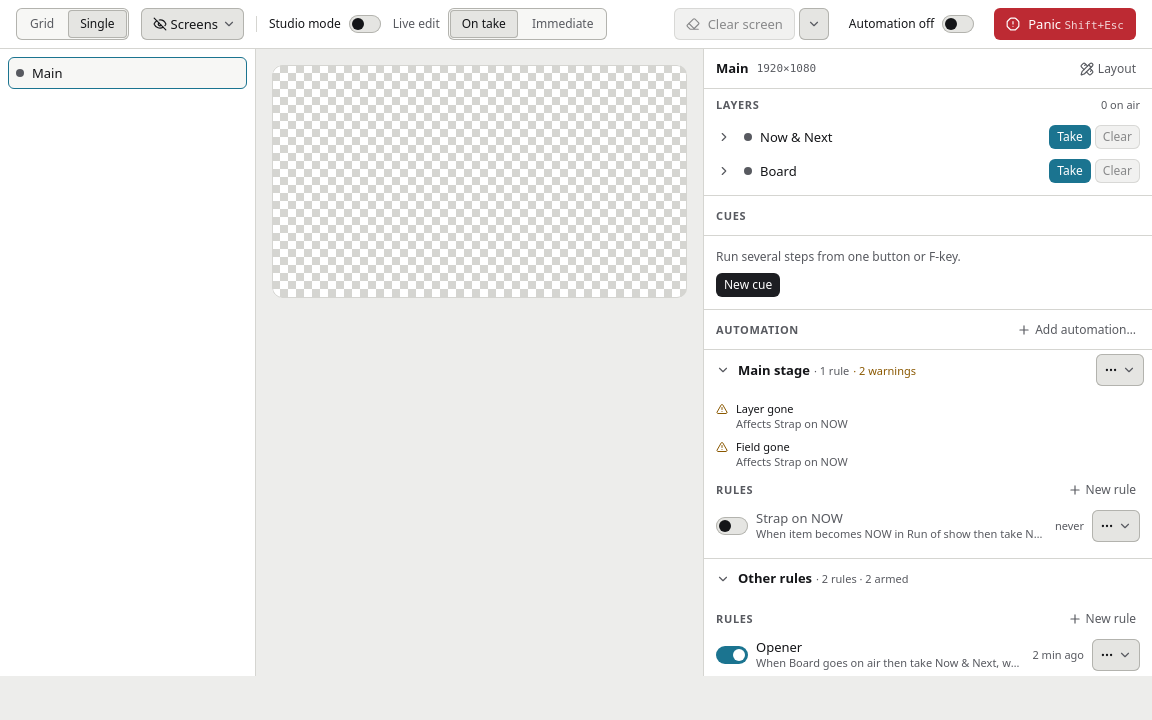
Test: linear editor › Edit saves the same flow (ids kept); the server's refusal shows inline and the editor stays
Check: the button "Main stage · 1 rule · 2 warnings" is shown, box [712,354,1092,386]
Click the button named "Actions for Opener" at (1116, 655), box [1092,639,1140,671]
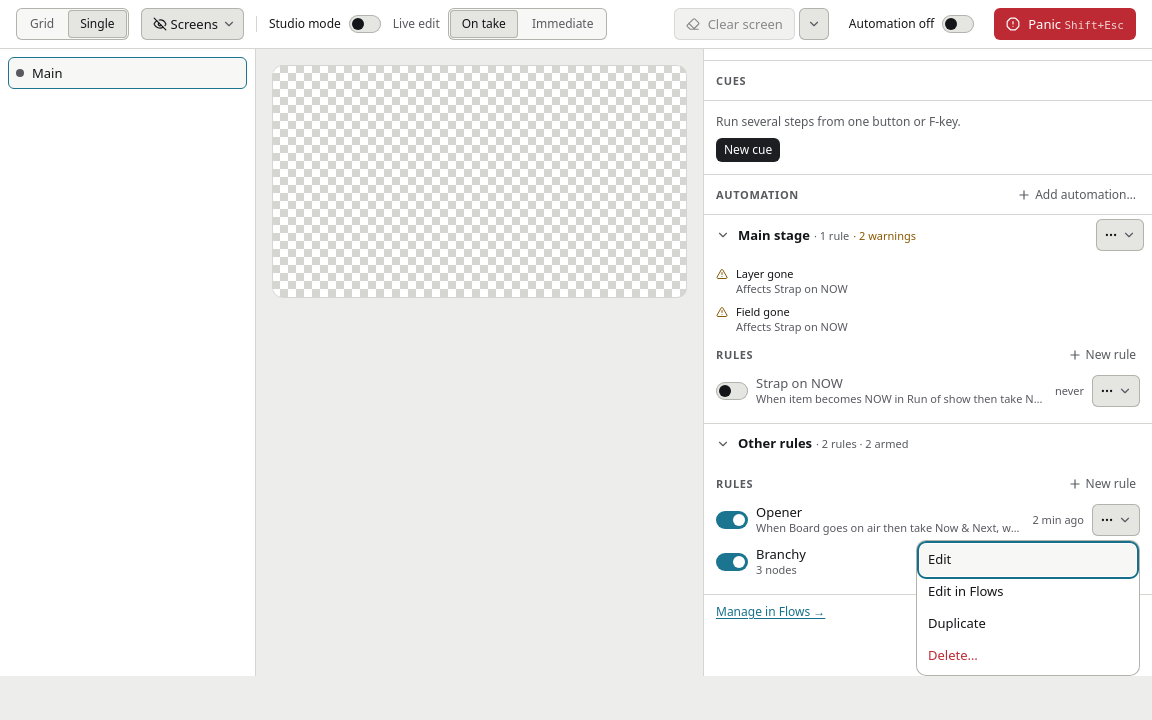
Click the menu item "Edit" at (1028, 560), box [920,544,1136,576]
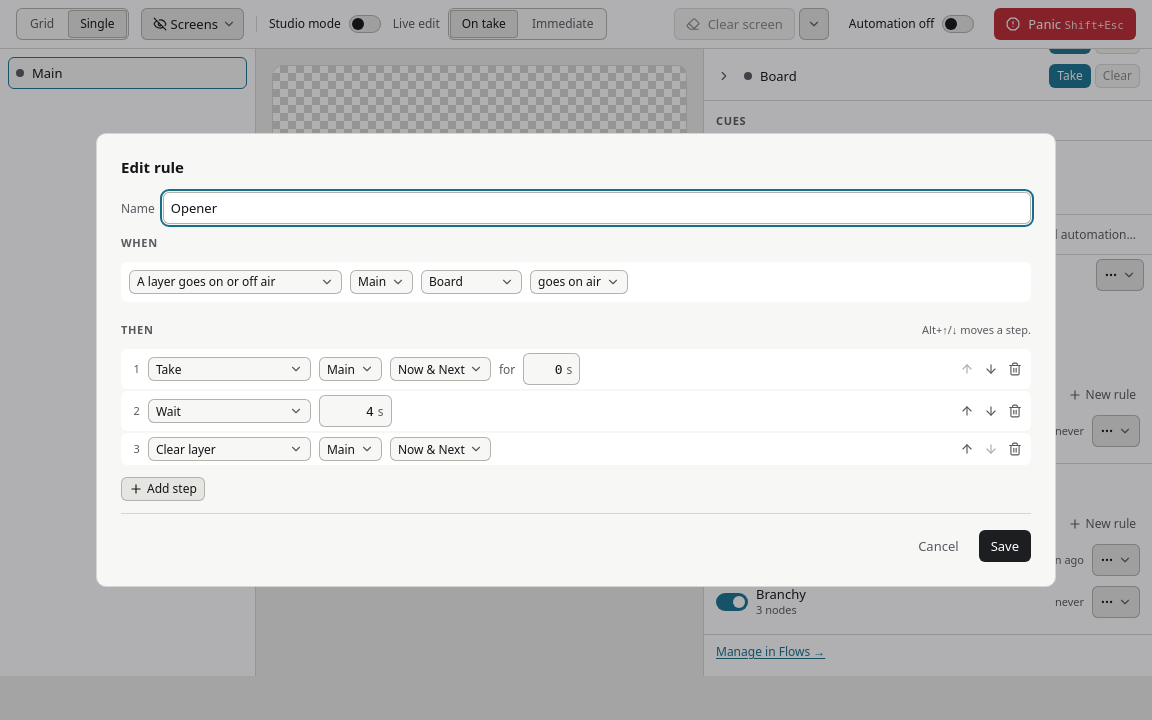
Replace the text in the field labelled "Name" with "  Opening  " at (597, 208), box [163,192,1031,224]
Replace the text in the number field named "Step 2 seconds to wait" with "6" at (348, 411), box [319,395,378,427]
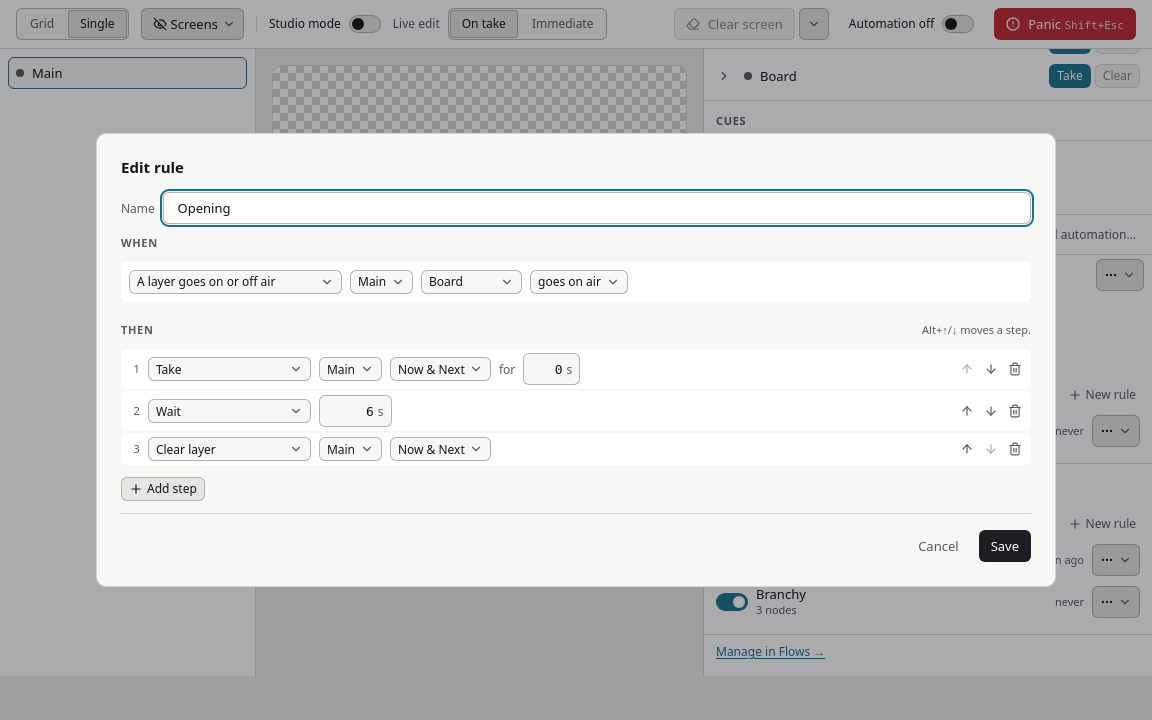
Click the button named "Delete step 3" at (1015, 449), box [1003,437,1027,461]
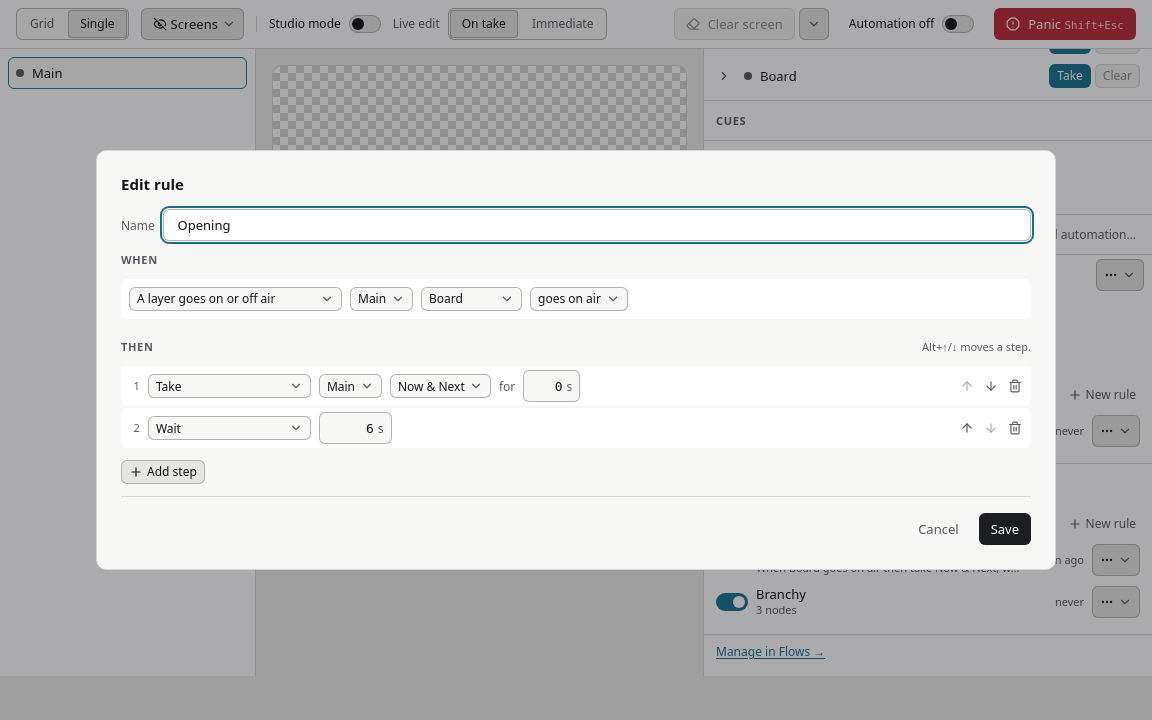
Click the button "Save" at (1005, 529), box [979,513,1031,545]
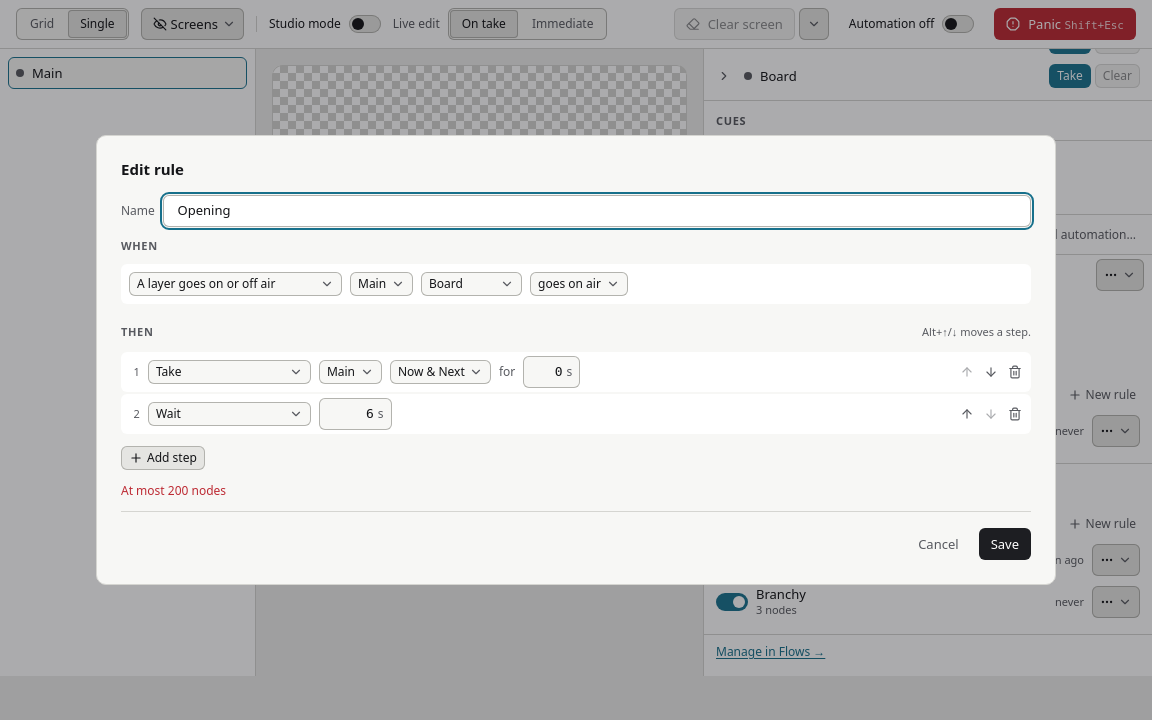
Check: the message reads "At most 200 nodes", box [121,482,226,499]
Click the button "Save" at (1005, 544), box [979,528,1031,560]
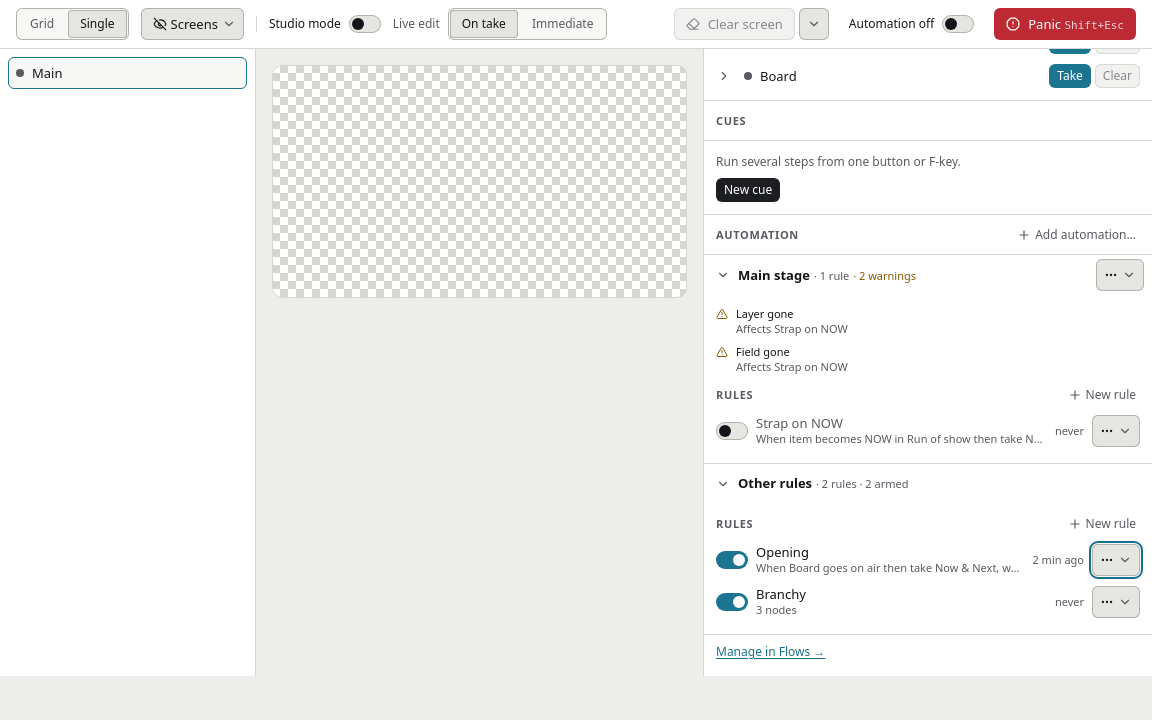
Check: the heading "Edit rule" is gone
